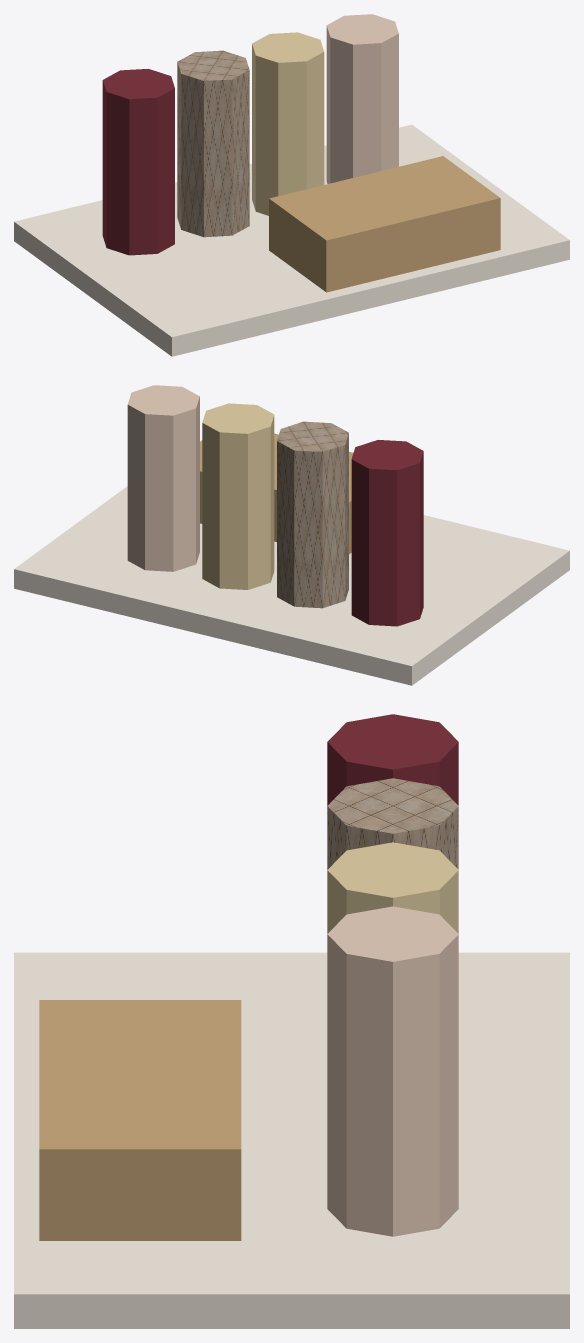
Rendered from conjunto_materiais.glb.
The picture shows the model from 3 angles, top to bottom: view 1: azimuth 30°, elevation 25°; view 2: azimuth 150°, elevation 25°; view 3: azimuth 270°, elevation 25°; orthographic projection. The views are drawn at different scales.
Parts seen in each view (by area): view 1: conjunto_materiais; view 2: conjunto_materiais; view 3: conjunto_materiais.
Boxes of the visible parts, x1,y1,x2,y2 form: conjunto_materiais: (14, 14, 569, 356); conjunto_materiais: (14, 385, 569, 685); conjunto_materiais: (14, 714, 569, 1328).
Size of the model in its own units: 0.32 by 0.135 by 0.22.
6 materials, 1 textured.
